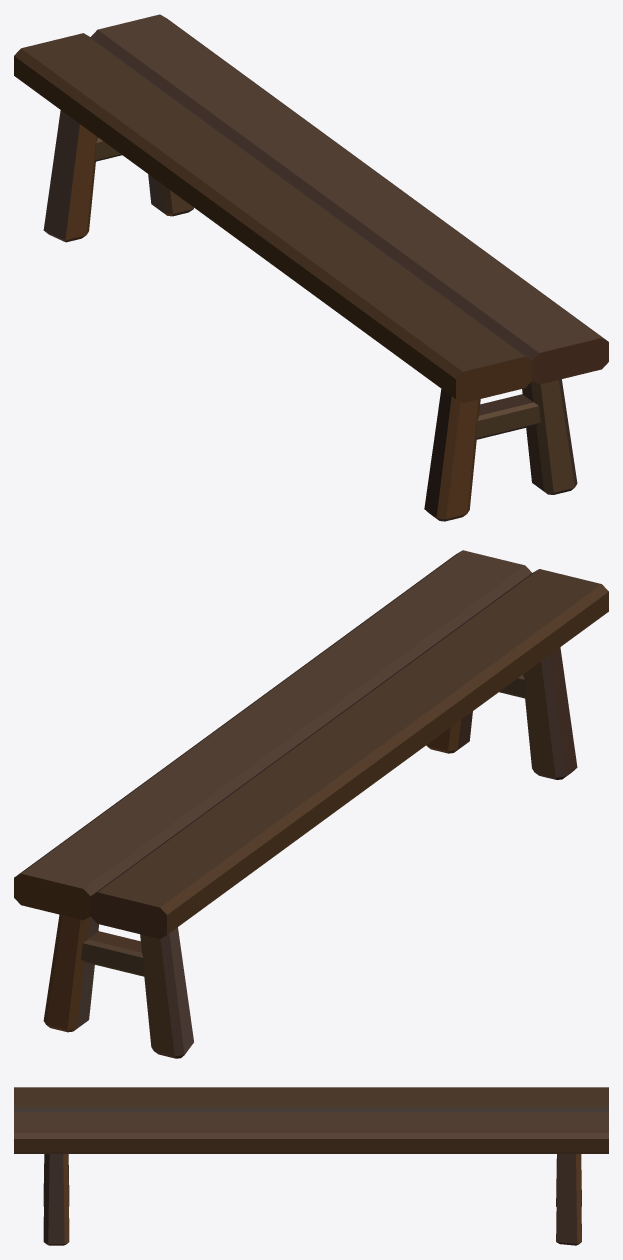
Rendered from Furniture_BenchC.fbx.
3 views of the same model, one above another, from view 1: azimuth 30°, elevation 25°; view 2: azimuth 150°, elevation 25°; view 3: azimuth 270°, elevation 25° (orthographic). The views are drawn at different scales.
Visible parts, largest first — view 1: Furniture_BenchC; view 2: Furniture_BenchC; view 3: Furniture_BenchC.
Part boxes in pixels (bbox=[...]): Furniture_BenchC: bbox=[14, 14, 608, 521]; Furniture_BenchC: bbox=[14, 550, 608, 1058]; Furniture_BenchC: bbox=[14, 1087, 608, 1245].
Size of the model in its own units: 50 by 52.85 by 250.
